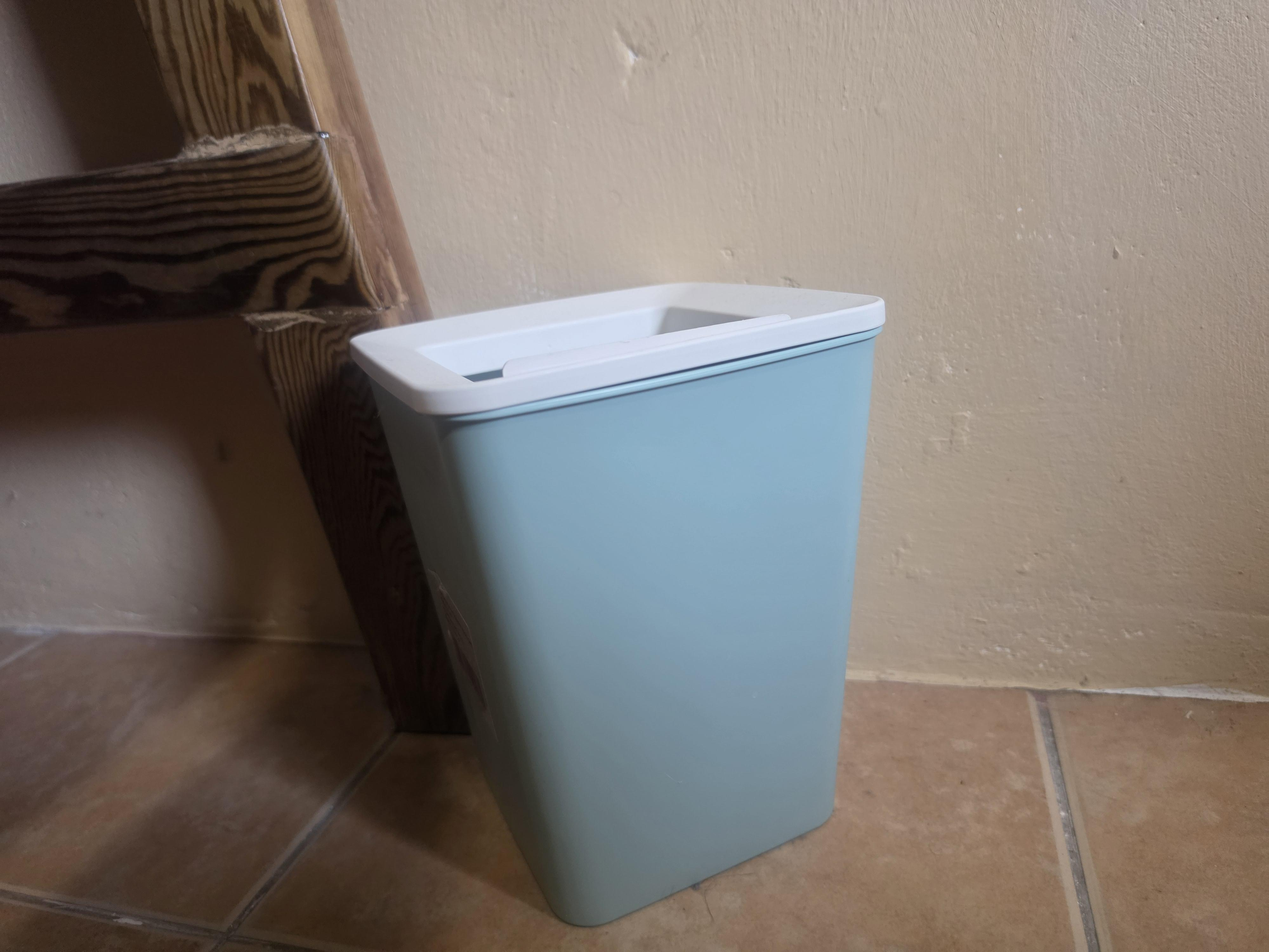bin: (350, 281, 886, 928)
